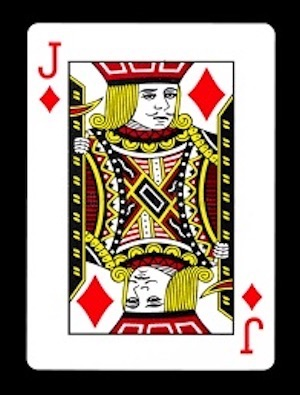JackOfDiamonds: (18, 16, 282, 379)
